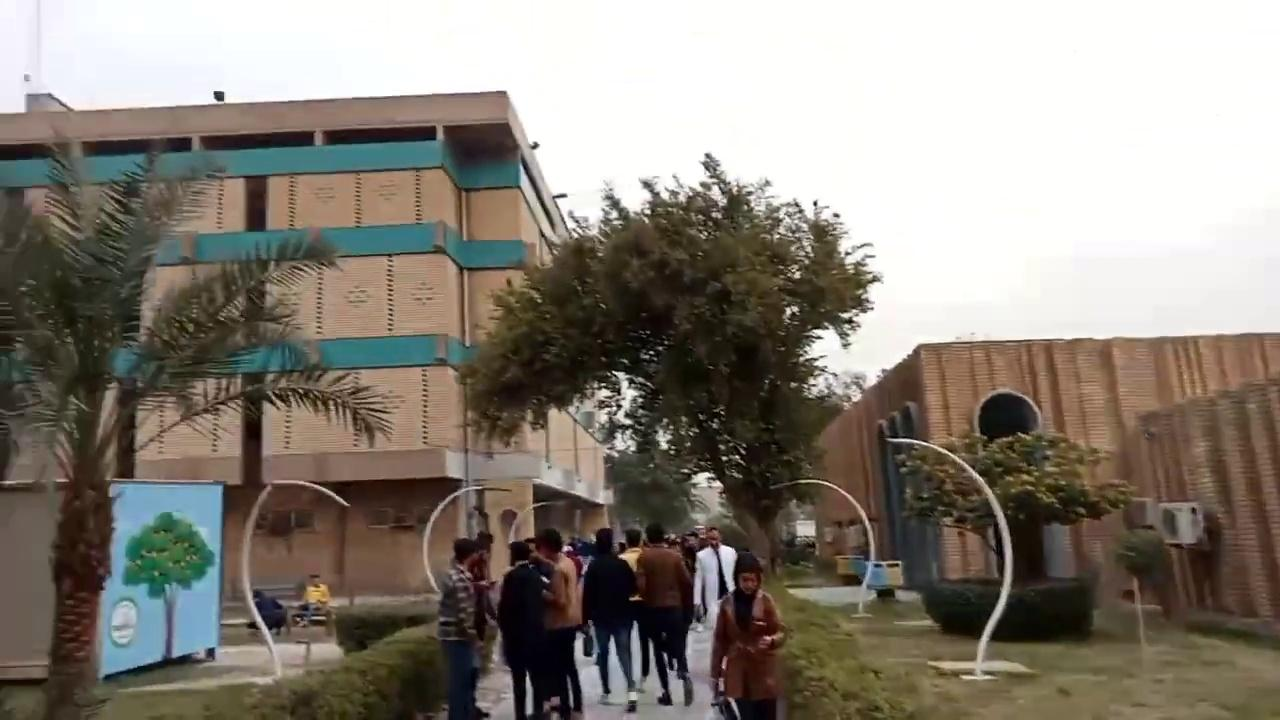person: (709, 551, 787, 719), (677, 526, 743, 685), (639, 531, 696, 710), (502, 540, 558, 720), (584, 523, 641, 695), (451, 548, 500, 715)
tree: (457, 149, 883, 576), (892, 424, 1137, 673), (121, 509, 214, 662), (1112, 524, 1181, 621)
